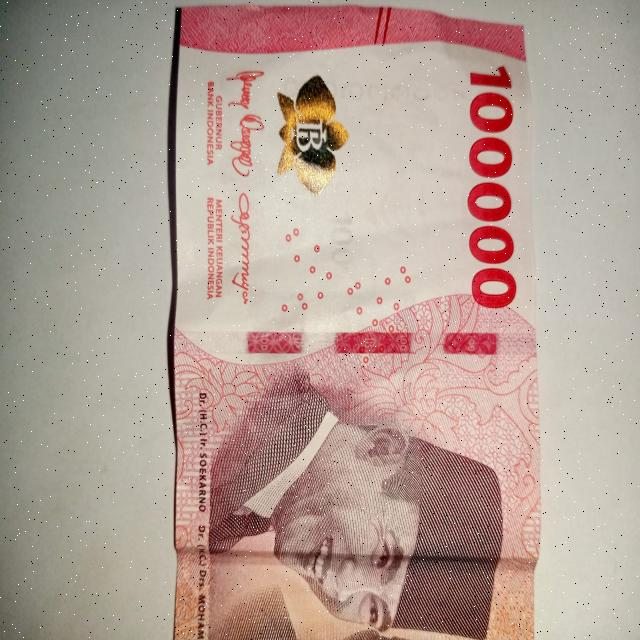100K: (165, 0, 542, 640)
